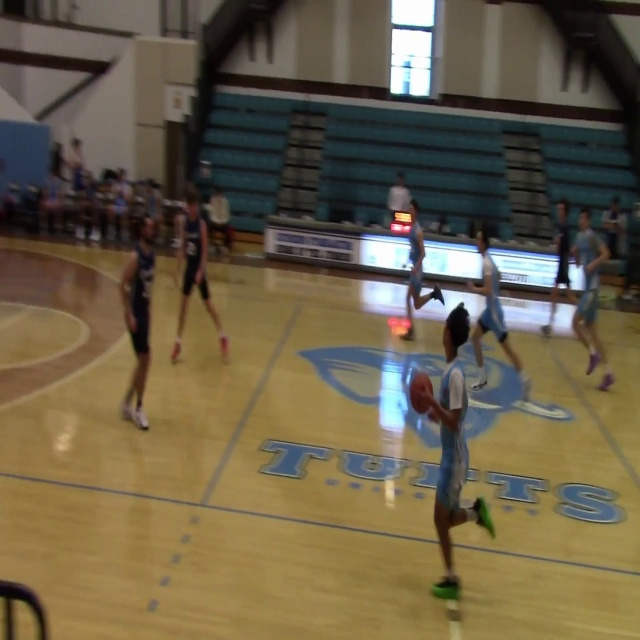Basketball: (408, 371, 433, 414)
